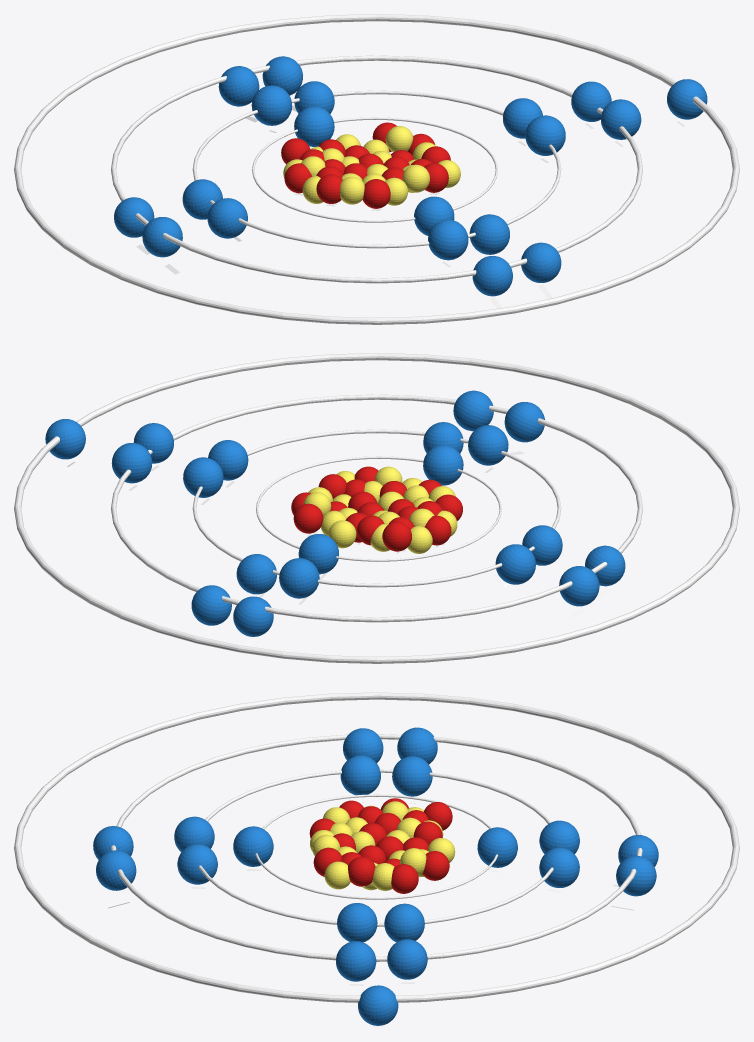
3 renders of one model, top to bottom at view 1: azimuth 30°, elevation 25°; view 2: azimuth 150°, elevation 25°; view 3: azimuth 270°, elevation 25°, orthographic.
Parts seen in each view (by area): view 1: Torus.004, Torus.003, Torus.002, Torus.001, -.008, -.004, -.005, -.017, -.003, -.002, -.013, -.016 (+18 smaller); view 2: Torus.004, Torus.003, Torus.002, Torus.001, -.004, -.009, -.008, -.006, -.016, -.007, -, -.017 (+16 smaller); view 3: Torus.004, Torus.003, Torus.002, Torus.001, -.015, -.010, -.006, -.018, -.003, -.002, -, -.001 (+15 smaller).
Part boxes in pixels (x1,y1,x2,y2): Torus.004: (14, 14, 739, 324); Torus.003: (111, 55, 642, 283); Torus.002: (192, 90, 561, 248); Torus.001: (252, 117, 497, 222); -.008: (428, 219, 468, 260); -.004: (251, 85, 292, 125); -.005: (469, 214, 509, 254); -.017: (472, 256, 512, 296); -.003: (207, 198, 247, 238); -.002: (525, 115, 565, 155); -.013: (521, 242, 561, 282); -.016: (218, 66, 259, 106); Torus.004: (14, 353, 739, 663); Torus.003: (111, 394, 642, 622); Torus.002: (192, 429, 561, 587); Torus.001: (256, 456, 501, 561); -.004: (279, 558, 319, 598); -.009: (236, 554, 276, 594); -.008: (468, 425, 508, 465); -.006: (495, 544, 535, 584); -.016: (233, 596, 273, 636); -.007: (183, 457, 223, 497); -: (423, 445, 463, 485); -.017: (504, 402, 544, 442); Torus.004: (14, 692, 739, 1002); Torus.003: (111, 734, 642, 961); Torus.002: (198, 769, 553, 926); Torus.001: (255, 794, 498, 899); -.015: (336, 941, 376, 981); -.010: (387, 939, 427, 979); -.006: (392, 756, 432, 796); -.018: (358, 985, 398, 1025); -.003: (340, 755, 380, 795); -.002: (337, 903, 377, 942); -: (233, 826, 273, 866); -.001: (477, 827, 517, 867).
Size of the model in its own units: 8.52 by 0.7994 by 8.33.
